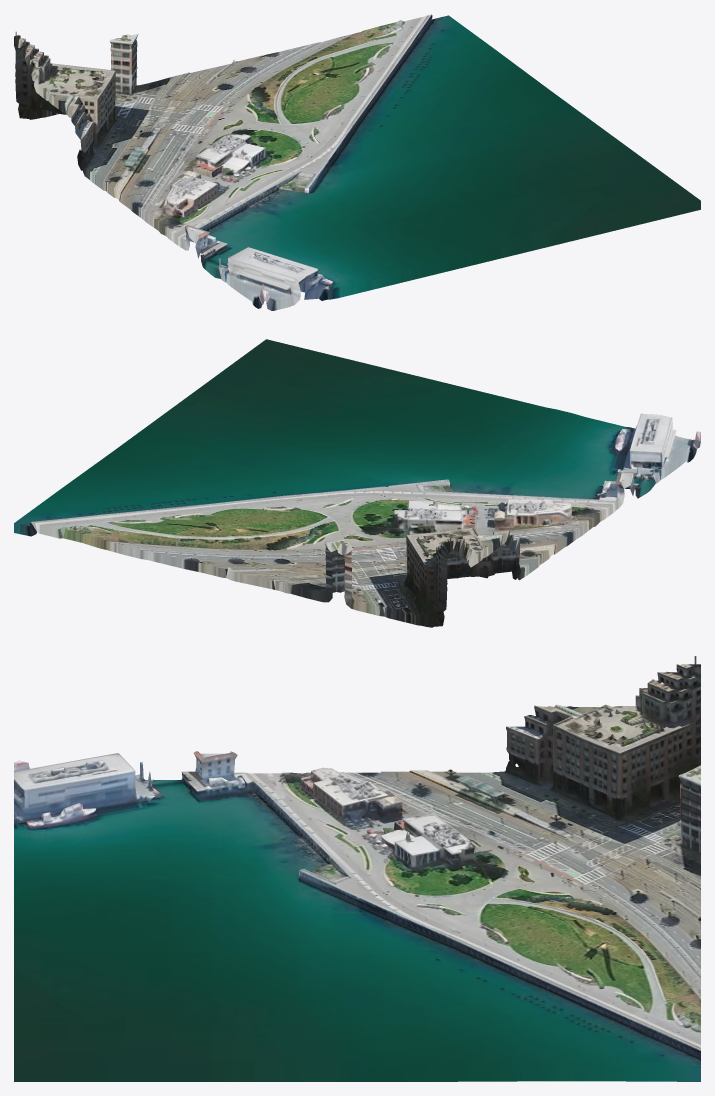
Rendered from z17-20975-50654-h0-yup-uvflip-v3-world.glb.
3 views of the same model, one above another, from view 1: azimuth 30°, elevation 25°; view 2: azimuth 150°, elevation 25°; view 3: azimuth 270°, elevation 25° (orthographic). The views are drawn at different scales.
Size of the model in its own units: 241 by 53.44 by 243.
1 material, 1 textured.
